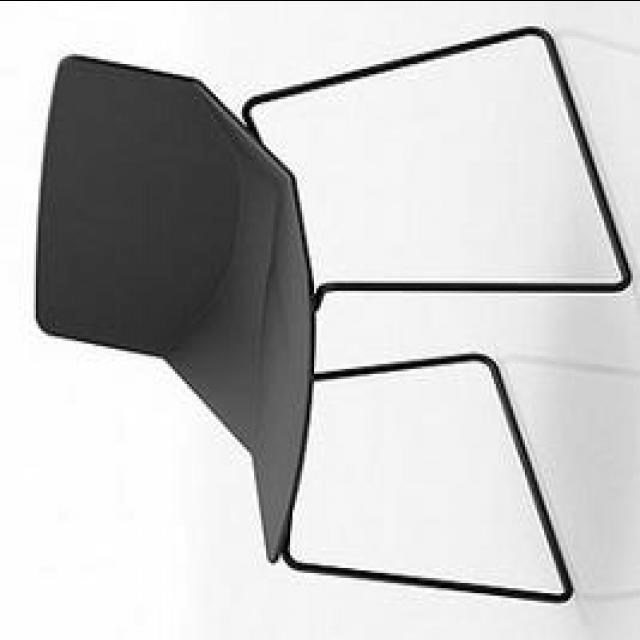chair: (33, 22, 633, 606)
